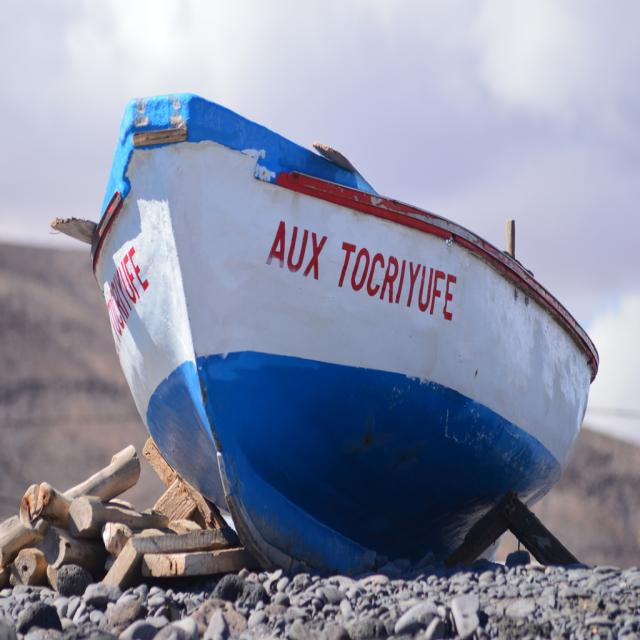Boat: (58, 61, 617, 559)
